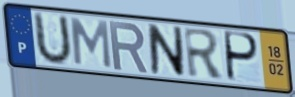M: (69, 16, 113, 71)
N: (146, 23, 187, 80)
P: (224, 30, 261, 85)
R: (181, 26, 226, 81), (107, 19, 150, 75)
U: (33, 11, 74, 67)
